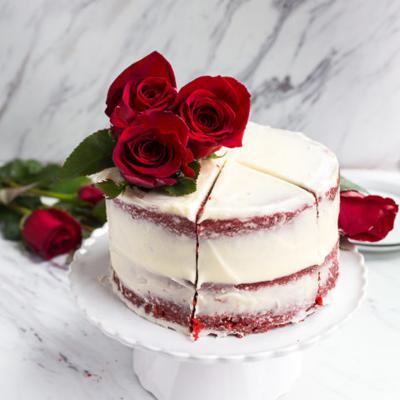cake: (102, 106, 346, 343)
